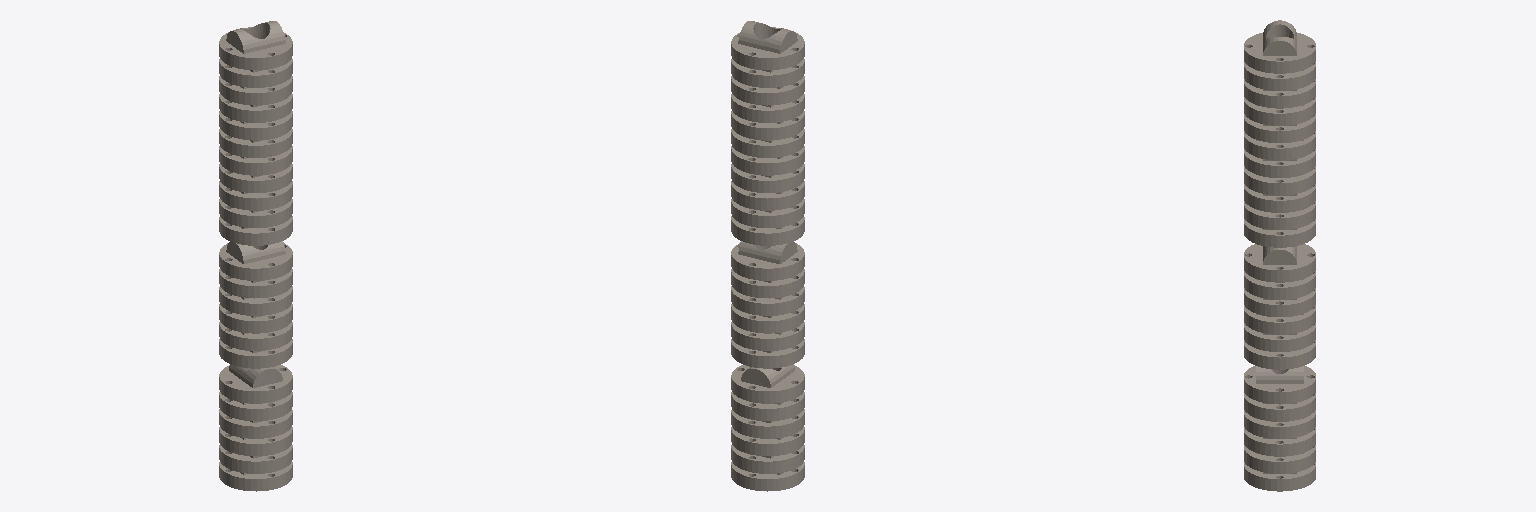
--- Facts derived from the render (not from the file) ---
Views: 3 orthographic renders of the robot side by side, from view 1: azimuth 30°, elevation 25°; view 2: azimuth 150°, elevation 25°; view 3: azimuth 270°, elevation 25°.
Robot: cylinder_joint_25asm_14 — 26 links, 25 joints (24 continuous, 1 fixed); root link link0; default pose: all joints at 0.
Visible links, largest first — view 1: link12, link5, link24, link1, link3, link14, link23, link10, link8, link21, link16, link19 (+12 smaller); view 2: link12, link5, link24, link1, link3, link14, link23, link10, link8, link21, link16, link19 (+12 smaller); view 3: link12, link5, link24, link4, link9, link0, link7, link19, link16, link18, link22, link2 (+12 smaller).
Link boxes in pixels (x1=…): link12: x1=219, y1=241, x2=292, y2=280; link5: x1=219, y1=364, x2=292, y2=403; link24: x1=219, y1=21, x2=292, y2=69; link1: x1=219, y1=445, x2=292, y2=473; link3: x1=219, y1=409, x2=292, y2=438; link14: x1=219, y1=216, x2=292, y2=245; link23: x1=219, y1=59, x2=292, y2=87; link10: x1=219, y1=286, x2=292, y2=315; link8: x1=219, y1=322, x2=292, y2=350; link21: x1=219, y1=94, x2=292, y2=122; link16: x1=219, y1=181, x2=292, y2=210; link19: x1=219, y1=129, x2=292, y2=157; link12: x1=731, y1=241, x2=804, y2=280; link5: x1=731, y1=364, x2=804, y2=403; link24: x1=731, y1=22, x2=804, y2=69; link1: x1=731, y1=445, x2=804, y2=473; link3: x1=731, y1=409, x2=804, y2=438; link14: x1=731, y1=216, x2=804, y2=245; link23: x1=731, y1=59, x2=804, y2=87; link10: x1=731, y1=286, x2=804, y2=315; link8: x1=731, y1=322, x2=804, y2=350; link21: x1=731, y1=94, x2=804, y2=122; link16: x1=731, y1=181, x2=804, y2=210; link19: x1=731, y1=129, x2=804, y2=157; link12: x1=1244, y1=244, x2=1315, y2=282; link5: x1=1244, y1=366, x2=1315, y2=404; link24: x1=1244, y1=20, x2=1315, y2=73; link4: x1=1244, y1=373, x2=1315, y2=421; link9: x1=1244, y1=305, x2=1315, y2=334; link0: x1=1244, y1=462, x2=1315, y2=491; link7: x1=1244, y1=340, x2=1315, y2=369; link19: x1=1244, y1=131, x2=1315, y2=160; link16: x1=1244, y1=184, x2=1315, y2=212; link18: x1=1244, y1=149, x2=1315, y2=177; link22: x1=1244, y1=79, x2=1315, y2=108; link2: x1=1244, y1=427, x2=1315, y2=456.
Size in the robot's own frame: 0.0038 by 0.0038 by 0.0256 metres.
Meshes: 26 distinct files referenced, 24 mesh visuals loaded (24 binary STL); not drawn: 2 (reference not matched to a file when rendering).

URDF robot description (cylinder_joint_25asm_14):
<?xml version="1.0" encoding="utf-8"?>
<!-- This URDF was automatically created by SolidWorks to URDF Exporter! Originally created by Stephen Brawner ([email redacted]) 
     Commit Version: 1.5.1-0-g916b5db  Build Version: 1.5.7152.31018
     For more information, please see http://wiki.ros.org/sw_urdf_exporter -->
<robot
  name="cylinder_joint_25asm_14">
  <link
    name="link0">
    <inertial>
      <origin
        xyz="-2.21907652596534E-08 -1.16344392510808E-08 0.000538247791607803"
        rpy="0 0 0" />
      <mass
        value="7.14380964147276E-06" />
      <inertia
        ixx="7.09547840102883E-12"
        ixy="4.28536440220919E-17"
        ixz="7.27330777188598E-17"
        iyy="8.71236658742558E-12"
        iyz="1.14893231592751E-16"
        izz="1.39367891333543E-11" />
    </inertial>
    <visual>
      <origin
        xyz="0 0 0"
        rpy="0 0 0" />
      <geometry>
        <mesh
          filename="package://cylinder_joint_25asm_14/meshes/link0.STL" />
      </geometry>
      <material
        name="">
        <color
          rgba="0.647058823529412 0.619607843137255 0.588235294117647 1" />
      </material>
    </visual>
    <collision>
      <origin
        xyz="0 0 0"
        rpy="0 0 0" />
      <geometry>
        <mesh
          filename="package://cylinder_joint_25asm_14/meshes/link0.STL" />
      </geometry>
    </collision>
  </link>
  <link
    name="link1">
    <inertial>
      <origin
        xyz="2.2190765259746E-08 0.000838247791607803 -1.16344392510329E-08"
        rpy="0 0 0" />
      <mass
        value="7.14380964147277E-06" />
      <inertia
        ixx="7.09547840102883E-12"
        ixy="-7.27330777190032E-17"
        ixz="-4.28536440221508E-17"
        iyy="1.39367891333544E-11"
        iyz="1.14893231591823E-16"
        izz="8.71236658742558E-12" />
    </inertial>
    <visual>
      <origin
        xyz="0 0 0"
        rpy="0 0 0" />
      <geometry>
        <mesh
          filename="package://cylinder_joint_25asm_14/meshes/link1.STL" />
      </geometry>
      <material
        name="">
        <color
          rgba="0.647058823529412 0.619607843137255 0.588235294117647 1" />
      </material>
    </visual>
    <collision>
      <origin
        xyz="0 0 0"
        rpy="0 0 0" />
      <geometry>
        <mesh
          filename="package://cylinder_joint_25asm_14/meshes/link1.STL" />
      </geometry>
    </collision>
  </link>
  <joint
    name="joint1"
    type="continuous">
    <origin
      xyz="0 0 0.0007"
      rpy="1.5708 0 1.5708" />
    <parent
      link="link0" />
    <child
      link="link1" />
    <axis
      xyz="0 0 1" />
    <limit
      lower="-0.157"
      upper="0.157"
      effort="100"
      velocity="1" />
  </joint>
  <link
    name="link2">
    <inertial>
      <origin
        xyz="-2.21907652596385E-08 0.000838247791607803 1.16344392512804E-08"
        rpy="0 0 0" />
      <mass
        value="7.14380964147276E-06" />
      <inertia
        ixx="7.09547840102883E-12"
        ixy="7.2733077718794E-17"
        ixz="-4.28536440221158E-17"
        iyy="1.39367891333544E-11"
        iyz="-1.14893231591564E-16"
        izz="8.71236658742558E-12" />
    </inertial>
    <visual>
      <origin
        xyz="0 0 0"
        rpy="0 0 0" />
      <geometry>
        <mesh
          filename="package://cylinder_joint_25asm_14/meshes/link2.STL" />
      </geometry>
      <material
        name="">
        <color
          rgba="0.647058823529412 0.619607843137255 0.588235294117647 1" />
      </material>
    </visual>
    <collision>
      <origin
        xyz="0 0 0"
        rpy="0 0 0" />
      <geometry>
        <mesh
          filename="package://cylinder_joint_25asm_14/meshes/link2.STL" />
      </geometry>
    </collision>
  </link>
  <joint
    name="joint2"
    type="continuous">
    <origin
      xyz="0 0.001 0"
      rpy="0 1.5708 0" />
    <parent
      link="link1" />
    <child
      link="link2" />
    <axis
      xyz="0 0 1" />
    <limit
      lower="-0.157"
      upper="0.157"
      effort="100"
      velocity="1" />
  </joint>
  <link
    name="link3">
    <inertial>
      <origin
        xyz="-2.21907652596817E-08 0.000838247791607803 1.16344392514488E-08"
        rpy="0 0 0" />
      <mass
        value="7.14380964147276E-06" />
      <inertia
        ixx="7.09547840102883E-12"
        ixy="7.2733077718483E-17"
        ixz="-4.28536440225979E-17"
        iyy="1.39367891333543E-11"
        iyz="-1.14893231591731E-16"
        izz="8.71236658742558E-12" />
    </inertial>
    <visual>
      <origin
        xyz="0 0 0"
        rpy="0 0 0" />
      <geometry>
        <mesh
          filename="package://cylinder_joint_25asm_14/meshes/link3.STL" />
      </geometry>
      <material
        name="">
        <color
          rgba="0.647058823529412 0.619607843137255 0.588235294117647 1" />
      </material>
    </visual>
    <collision>
      <origin
        xyz="0 0 0"
        rpy="0 0 0" />
      <geometry>
        <mesh
          filename="package://cylinder_joint_25asm_14/meshes/link3.STL" />
      </geometry>
    </collision>
  </link>
  <joint
    name="joint3"
    type="continuous">
    <origin
      xyz="0 0.001 0"
      rpy="0 -1.5708 0" />
    <parent
      link="link2" />
    <child
      link="link3" />
    <axis
      xyz="0 0 1" />
    <limit
      lower="-0.157"
      upper="0.157"
      effort="100"
      velocity="1" />
  </joint>
  <link
    name="link4">
    <inertial>
      <origin
        xyz="-2.21907652595847E-08 0.000838247791607803 1.16344392505517E-08"
        rpy="0 0 0" />
      <mass
        value="7.14380964147275E-06" />
      <inertia
        ixx="7.09547840102882E-12"
        ixy="7.27330777185742E-17"
        ixz="-4.28536440226602E-17"
        iyy="1.39367891333543E-11"
        iyz="-1.14893231591943E-16"
        izz="8.71236658742557E-12" />
    </inertial>
    <visual>
      <origin
        xyz="0 0 0"
        rpy="0 0 0" />
      <geometry>
        <mesh
          filename="package://cylinder_joint_25asm_14/meshes/link4.STL" />
      </geometry>
      <material
        name="">
        <color
          rgba="0.647058823529412 0.619607843137255 0.588235294117647 1" />
      </material>
    </visual>
    <collision>
      <origin
        xyz="0 0 0"
        rpy="0 0 0" />
      <geometry>
        <mesh
          filename="package://cylinder_joint_25asm_14/meshes/link4.STL" />
      </geometry>
    </collision>
  </link>
  <joint
    name="joint4"
    type="continuous">
    <origin
      xyz="0 0.001 0"
      rpy="0 1.5708 0" />
    <parent
      link="link3" />
    <child
      link="link4" />
    <axis
      xyz="0 0 1" />
    <limit
      lower="-0.157"
      upper="0.157"
      effort="100"
      velocity="1" />
  </joint>
  <link
    name="link5">
    <inertial>
      <origin
        xyz="-2.21907652597724E-08 0.000838247791607805 1.16344392510284E-08"
        rpy="0 0 0" />
      <mass
        value="7.14380964147275E-06" />
      <inertia
        ixx="7.09547840102882E-12"
        ixy="7.27330777185328E-17"
        ixz="-4.28536440225276E-17"
        iyy="1.39367891333543E-11"
        iyz="-1.14893231591784E-16"
        izz="8.71236658742557E-12" />
    </inertial>
    <visual>
      <origin
        xyz="0 0 0"
        rpy="0 0 0" />
      <geometry>
        <mesh
          filename="package://cylinder_joint_25asm_14/meshes/link5.STL" />
      </geometry>
      <material
        name="">
        <color
          rgba="0.647058823529412 0.619607843137255 0.588235294117647 1" />
      </material>
    </visual>
    <collision>
      <origin
        xyz="0 0 0"
        rpy="0 0 0" />
      <geometry>
        <mesh
          filename="package://cylinder_joint_25asm_14/meshes/link5.STL" />
      </geometry>
    </collision>
  </link>
  <joint
    name="joint5"
    type="continuous">
    <origin
      xyz="0 0.001 0"
      rpy="0 -1.5708 0" />
    <parent
      link="link4" />
    <child
      link="link5" />
    <axis
      xyz="0 0 1" />
    <limit
      lower="-0.157"
      upper="0.157"
      effort="100"
      velocity="1" />
  </joint>
  <link
    name="link6">
    <inertial>
      <origin
        xyz="-2.21907652596204E-08 0.000838247791607804 1.16344392499492E-08"
        rpy="0 0 0" />
      <mass
        value="7.14380964147276E-06" />
      <inertia
        ixx="7.09547840102882E-12"
        ixy="7.27330777188102E-17"
        ixz="-4.28536440227107E-17"
        iyy="1.39367891333543E-11"
        iyz="-1.1489323159158E-16"
        izz="8.71236658742557E-12" />
    </inertial>
    <visual>
      <origin
        xyz="0 0 0"
        rpy="0 0 0" />
      <geometry>
        <mesh
          filename="package://cylinder_joint_25asm_14/meshes/link6.STL" />
      </geometry>
      <material
        name="">
        <color
          rgba="0.647058823529412 0.619607843137255 0.588235294117647 1" />
      </material>
    </visual>
    <collision>
      <origin
        xyz="0 0 0"
        rpy="0 0 0" />
      <geometry>
        <mesh
          filename="package://cylinder_joint_25asm_14/meshes/link6.STL" />
      </geometry>
    </collision>
  </link>
  <joint
    name="joint6"
    type="continuous">
    <origin
      xyz="0 0.001 0"
      rpy="0 1.5708 0" />
    <parent
      link="link5" />
    <child
      link="link6" />
    <axis
      xyz="0 0 1" />
    <limit
      lower="-0.157"
      upper="0.157"
      effort="100"
      velocity="1" />
  </joint>
  <link
    name="link7">
    <inertial>
      <origin
        xyz="-2.21907652597829E-08 0.000838247791607803 1.16344392505934E-08"
        rpy="0 0 0" />
      <mass
        value="7.14380964147275E-06" />
      <inertia
        ixx="7.09547840102882E-12"
        ixy="7.27330777190162E-17"
        ixz="-4.28536440224905E-17"
        iyy="1.39367891333543E-11"
        iyz="-1.14893231592449E-16"
        izz="8.71236658742557E-12" />
    </inertial>
    <visual>
      <origin
        xyz="0 0 0"
        rpy="0 0 0" />
      <geometry>
        <mesh
          filename="package://cylinder_joint_25asm_14/meshes/link7.STL" />
      </geometry>
      <material
        name="">
        <color
          rgba="0.647058823529412 0.619607843137255 0.588235294117647 1" />
      </material>
    </visual>
    <collision>
      <origin
        xyz="0 0 0"
        rpy="0 0 0" />
      <geometry>
        <mesh
          filename="package://cylinder_joint_25asm_14/meshes/link7.STL" />
      </geometry>
    </collision>
  </link>
  <joint
    name="joint7"
    type="continuous">
    <origin
      xyz="0 0.001 0"
      rpy="0 -1.5708 0" />
    <parent
      link="link6" />
    <child
      link="link7" />
    <axis
      xyz="0 0 1" />
    <limit
      lower="-0.157"
      upper="0.157"
      effort="100"
      velocity="1" />
  </joint>
  <link
    name="link8">
    <inertial>
      <origin
        xyz="-2.21907652596306E-08 0.000838247791607801 1.16344392498287E-08"
        rpy="0 0 0" />
      <mass
        value="7.14380964147276E-06" />
      <inertia
        ixx="7.09547840102882E-12"
        ixy="7.27330777186379E-17"
        ixz="-4.2853644021828E-17"
        iyy="1.39367891333543E-11"
        iyz="-1.14893231592695E-16"
        izz="8.71236658742558E-12" />
    </inertial>
    <visual>
      <origin
        xyz="0 0 0"
        rpy="0 0 0" />
      <geometry>
        <mesh
          filename="package://cylinder_joint_25asm_14/meshes/link8.STL" />
      </geometry>
      <material
        name="">
        <color
          rgba="0.647058823529412 0.619607843137255 0.588235294117647 1" />
      </material>
    </visual>
    <collision>
      <origin
        xyz="0 0 0"
        rpy="0 0 0" />
      <geometry>
        <mesh
          filename="package://cylinder_joint_25asm_14/meshes/link8.STL" />
      </geometry>
    </collision>
  </link>
  <joint
    name="joint8"
    type="continuous">
    <origin
      xyz="0 0.001 0"
      rpy="0 1.5708 0" />
    <parent
      link="link7" />
    <child
      link="link8" />
    <axis
      xyz="0 0 1" />
    <limit
      lower="-0.157"
      upper="0.157"
      effort="100"
      velocity="1" />
  </joint>
  <link
    name="link9">
    <inertial>
      <origin
        xyz="-2.21907652596635E-08 0.000838247791607802 1.1634439250027E-08"
        rpy="0 0 0" />
      <mass
        value="7.14380964147276E-06" />
      <inertia
        ixx="7.09547840102882E-12"
        ixy="7.27330777186584E-17"
        ixz="-4.28536440227988E-17"
        iyy="1.39367891333543E-11"
        iyz="-1.148932315921E-16"
        izz="8.71236658742557E-12" />
    </inertial>
    <visual>
      <origin
        xyz="0 0 0"
        rpy="0 0 0" />
      <geometry>
        <mesh
          filename="package://cylinder_joint_25asm_14/meshes/link9.STL" />
      </geometry>
      <material
        name="">
        <color
          rgba="0.647058823529412 0.619607843137255 0.588235294117647 1" />
      </material>
    </visual>
    <collision>
      <origin
        xyz="0 0 0"
        rpy="0 0 0" />
      <geometry>
        <mesh
          filename="package://cylinder_joint_25asm_14/meshes/link9.STL" />
      </geometry>
    </collision>
  </link>
  <joint
    name="joint9"
    type="continuous">
    <origin
      xyz="0 0.001 0"
      rpy="0 -1.5708 0" />
    <parent
      link="link8" />
    <child
      link="link9" />
    <axis
      xyz="0 0 1" />
    <limit
      lower="-0.157"
      upper="0.157"
      effort="100"
      velocity="1" />
  </joint>
  <link
    name="link10">
    <inertial>
      <origin
        xyz="2.21907652594877E-08 0.000838247791607802 -1.16344392530854E-08"
        rpy="0 0 0" />
      <mass
        value="7.14380964147275E-06" />
      <inertia
        ixx="7.09547840102882E-12"
        ixy="-7.27330777184488E-17"
        ixz="-4.28536440220448E-17"
        iyy="1.39367891333543E-11"
        iyz="1.14893231592418E-16"
        izz="8.71236658742557E-12" />
    </inertial>
    <visual>
      <origin
        xyz="0 0 0"
        rpy="0 0 0" />
      <geometry>
        <mesh
          filename="package://cylinder_joint_25asm_14/meshes/link10.STL" />
      </geometry>
      <material
        name="">
        <color
          rgba="0.647058823529412 0.619607843137255 0.588235294117647 1" />
      </material>
    </visual>
    <collision>
      <origin
        xyz="0 0 0"
        rpy="0 0 0" />
      <geometry>
        <mesh
          filename="package://cylinder_joint_25asm_14/meshes/link10.STL" />
      </geometry>
    </collision>
  </link>
  <joint
    name="joint10"
    type="continuous">
    <origin
      xyz="0 0.001 0"
      rpy="0 1.5708 0" />
    <parent
      link="link9" />
    <child
      link="link10" />
    <axis
      xyz="0 0 1" />
    <limit
      lower="-0.157"
      upper="0.157"
      effort="100"
      velocity="1" />
  </joint>
  <link
    name="link11">
    <inertial>
      <origin
        xyz="2.21907652597481E-08 0.000838247791607804 -1.16344392519066E-08"
        rpy="0 0 0" />
      <mass
        value="7.14380964147276E-06" />
      <inertia
        ixx="7.09547840102882E-12"
        ixy="-7.27330777191194E-17"
        ixz="-4.28536440227158E-17"
        iyy="1.39367891333543E-11"
        iyz="1.14893231592021E-16"
        izz="8.71236658742557E-12" />
    </inertial>
    <visual>
      <origin
        xyz="0 0 0"
        rpy="0 0 0" />
      <geometry>
        <mesh
          filename="package://cylinder_joint_25asm_14/meshes/link11.STL" />
      </geometry>
      <material
        name="">
        <color
          rgba="0.647058823529412 0.619607843137255 0.588235294117647 1" />
      </material>
    </visual>
    <collision>
      <origin
        xyz="0 0 0"
        rpy="0 0 0" />
      <geometry>
        <mesh
          filename="package://cylinder_joint_25asm_14/meshes/link11.STL" />
      </geometry>
    </collision>
  </link>
  <joint
    name="joint11"
    type="continuous">
    <origin
      xyz="0 0.001 0"
      rpy="0 -1.5708 0" />
    <parent
      link="link10" />
    <child
      link="link11" />
    <axis
      xyz="0 0 1" />
    <limit
      lower="-0.157"
      upper="0.157"
      effort="100"
      velocity="1" />
  </joint>
  <link
    name="link12">
    <inertial>
      <origin
        xyz="-2.21907652592712E-08 0.000838247791607802 1.16344392489595E-08"
        rpy="0 0 0" />
      <mass
        value="7.14380964147276E-06" />
      <inertia
        ixx="7.09547840102882E-12"
        ixy="7.27330777187232E-17"
        ixz="-4.28536440224688E-17"
        iyy="1.39367891333543E-11"
        iyz="-1.14893231591502E-16"
        izz="8.71236658742557E-12" />
    </inertial>
    <visual>
      <origin
        xyz="0 0 0"
        rpy="0 0 0" />
      <geometry>
        <mesh
          filename="package://cylinder_joint_25asm_14/meshes/link12.STL" />
      </geometry>
      <material
        name="">
        <color
          rgba="0.647058823529412 0.619607843137255 0.588235294117647 1" />
      </material>
    </visual>
    <collision>
      <origin
        xyz="0 0 0"
        rpy="0 0 0" />
      <geometry>
        <mesh
          filename="package://cylinder_joint_25asm_14/meshes/link12.STL" />
      </geometry>
    </collision>
  </link>
  <joint
    name="joint12"
    type="continuous">
    <origin
      xyz="0 0.001 0"
      rpy="0 1.5708 0" />
    <parent
      link="link11" />
    <child
      link="link12" />
    <axis
      xyz="0 0 1" />
    <limit
      lower="-0.157"
      upper="0.157"
      effort="100"
      velocity="1" />
  </joint>
  <link
    name="link13">
    <inertial>
      <origin
        xyz="-2.21907652597256E-08 0.000838247791607804 1.16344392507759E-08"
        rpy="0 0 0" />
      <mass
        value="7.14380964147275E-06" />
      <inertia
        ixx="7.09547840102882E-12"
        ixy="7.27330777187502E-17"
        ixz="-4.28536440218357E-17"
        iyy="1.39367891333543E-11"
        iyz="-1.14893231593429E-16"
        izz="8.71236658742557E-12" />
    </inertial>
    <visual>
      <origin
        xyz="0 0 0"
        rpy="0 0 0" />
      <geometry>
        <mesh
          filename="package://cylinder_joint_25asm_14/meshes/link13.STL" />
      </geometry>
      <material
        name="">
        <color
          rgba="0.647058823529412 0.619607843137255 0.588235294117647 1" />
      </material>
    </visual>
    <collision>
      <origin
        xyz="0 0 0"
        rpy="0 0 0" />
      <geometry>
        <mesh
          filename="package://cylinder_joint_25asm_14/meshes/link13.STL" />
      </geometry>
    </collision>
  </link>
  <joint
    name="joint13"
    type="continuous">
    <origin
      xyz="0 0.001 0"
      rpy="0 -1.5708 0" />
    <parent
      link="link12" />
    <child
      link="link13" />
    <axis
      xyz="0 0 1" />
    <limit
      lower="-0.157"
      upper="0.157"
      effort="100"
      velocity="1" />
  </joint>
  <link
    name="link14">
    <inertial>
      <origin
        xyz="2.21907652595504E-08 0.000838247791607802 -1.16344392536534E-08"
        rpy="0 0 0" />
      <mass
        value="7.14380964147276E-06" />
      <inertia
        ixx="7.09547840102882E-12"
        ixy="-7.27330777187182E-17"
        ixz="-4.28536440222973E-17"
        iyy="1.39367891333543E-11"
        iyz="1.14893231592192E-16"
        izz="8.71236658742558E-12" />
    </inertial>
    <visual>
      <origin
        xyz="0 0 0"
        rpy="0 0 0" />
      <geometry>
        <mesh
          filename="package://cylinder_joint_25asm_14/meshes/link14.STL" />
      </geometry>
      <material
        name="">
        <color
          rgba="0.647058823529412 0.619607843137255 0.588235294117647 1" />
      </material>
    </visual>
    <collision>
      <origin
        xyz="0 0 0"
        rpy="0 0 0" />
      <geometry>
        <mesh
          filename="package://cylinder_joint_25asm_14/meshes/link14.STL" />
      </geometry>
    </collision>
  </link>
  <joint
    name="joint14"
    type="continuous">
    <origin
      xyz="0 0.001 0"
      rpy="0 1.5708 0" />
    <parent
      link="link13" />
    <child
      link="link14" />
    <axis
      xyz="0 0 1" />
    <limit
      lower="-0.157"
      upper="0.157"
      effort="100"
      velocity="1" />
  </joint>
  <link
    name="link15">
    <inertial>
      <origin
        xyz="2.21907652597479E-08 0.000838247791607804 -1.16344392519019E-08"
        rpy="0 0 0" />
      <mass
        value="7.14380964147278E-06" />
      <inertia
        ixx="7.09547840102884E-12"
        ixy="-7.2733077718594E-17"
        ixz="-4.28536440226031E-17"
        iyy="1.39367891333544E-11"
        iyz="1.14893231593017E-16"
        izz="8.7123665874256E-12" />
    </inertial>
    <visual>
      <origin
        xyz="0 0 0"
        rpy="0 0 0" />
      <geometry>
        <mesh
          filename="package://cylinder_joint_25asm_14/meshes/link15.STL" />
      </geometry>
      <material
        name="">
        <color
          rgba="0.647058823529412 0.619607843137255 0.588235294117647 1" />
      </material>
    </visual>
    <collision>
      <origin
        xyz="0 0 0"
        rpy="0 0 0" />
      <geometry>
        <mesh
          filename="package://cylinder_joint_25asm_14/meshes/link15.STL" />
      </geometry>
    </collision>
  </link>
  <joint
    name="joint15"
    type="continuous">
    <origin
      xyz="0 0.001 0"
      rpy="0 -1.5708 0" />
    <parent
      link="link14" />
    <child
      link="link15" />
    <axis
      xyz="0 0 1" />
    <limit
      lower="-0.157"
      upper="0.157"
      effort="100"
      velocity="1" />
  </joint>
  <link
    name="link16">
    <inertial>
      <origin
        xyz="2.21907652599098E-08 0.000838247791607804 -1.16344392530593E-08"
        rpy="0 0 0" />
      <mass
        value="7.14380964147276E-06" />
      <inertia
        ixx="7.09547840102883E-12"
        ixy="-7.27330777199987E-17"
        ixz="-4.28536440231096E-17"
        iyy="1.39367891333543E-11"
        iyz="1.14893231591443E-16"
        izz="8.71236658742558E-12" />
    </inertial>
    <visual>
      <origin
        xyz="0 0 0"
        rpy="0 0 0" />
      <geometry>
        <mesh
          filename="package://cylinder_joint_25asm_14/meshes/link16.STL" />
      </geometry>
      <material
        name="">
        <color
          rgba="0.647058823529412 0.619607843137255 0.588235294117647 1" />
      </material>
    </visual>
    <collision>
      <origin
        xyz="0 0 0"
        rpy="0 0 0" />
      <geometry>
        <mesh
          filename="package://cylinder_joint_25asm_14/meshes/link16.STL" />
      </geometry>
    </collision>
  </link>
  <joint
    name="joint16"
    type="continuous">
    <origin
      xyz="0 0.001 0"
      rpy="0 1.5708 0" />
    <parent
      link="link15" />
    <child
      link="link16" />
    <axis
      xyz="0 0 1" />
    <limit
      lower="-0.157"
      upper="0.157"
      effort="100"
      velocity="1" />
  </joint>
  <link
    name="link17">
    <inertial>
      <origin
        xyz="2.21907652597994E-08 0.000838247791607804 -1.16344392511564E-08"
        rpy="0 0 0" />
      <mass
        value="7.14380964147276E-06" />
      <inertia
        ixx="7.09547840102883E-12"
        ixy="-7.27330777198471E-17"
        ixz="-4.28536440229726E-17"
        iyy="1.39367891333543E-11"
        iyz="1.14893231590642E-16"
        izz="8.71236658742558E-12" />
    </inertial>
    <visual>
      <origin
        xyz="0 0 0"
        rpy="0 0 0" />
      <geometry>
        <mesh
          filename="package://cylinder_joint_25asm_14/meshes/link17.STL" />
      </geometry>
      <material
        name="">
        <color
          rgba="0.647058823529412 0.619607843137255 0.588235294117647 1" />
      </material>
    </visual>
    <collision>
      <origin
        xyz="0 0 0"
        rpy="0 0 0" />
      <geometry>
        <mesh
          filename="package://cylinder_joint_25asm_14/meshes/link17.STL" />
      </geometry>
    </collision>
  </link>
  <joint
    name="joint17"
    type="continuous">
    <origin
      xyz="0 0.001 0"
      rpy="0 -1.5708 0" />
    <parent
      link="link16" />
    <child
      link="link17" />
    <axis
      xyz="0 0 1" />
    <limit
      lower="-0.157"
      upper="0.157"
      effort="100"
      velocity="1" />
  </joint>
  <link
    name="link18">
    <inertial>
      <origin
        xyz="-2.21907652596259E-08 0.000838247791607804 1.16344392482816E-08"
        rpy="0 0 0" />
      <mass
        value="7.14380964147276E-06" />
      <inertia
        ixx="7.09547840102882E-12"
        ixy="7.27330777183518E-17"
        ixz="-4.28536440234473E-17"
        iyy="1.39367891333543E-11"
        iyz="-1.14893231590171E-16"
        izz="8.71236658742557E-12" />
    </inertial>
    <visual>
      <origin
        xyz="0 0 0"
        rpy="0 0 0" />
      <geometry>
        <mesh
          filename="package://cylinder_joint_25asm_14/meshes/link18.STL" />
      </geometry>
      <material
        name="">
        <color
          rgba="0.647058823529412 0.619607843137255 0.588235294117647 1" />
      </material>
    </visual>
    <collision>
      <origin
        xyz="0 0 0"
        rpy="0 0 0" />
      <geometry>
        <mesh
          filename="package://cylinder_joint_25asm_14/meshes/link18.STL" />
      </geometry>
    </collision>
  </link>
  <joint
    name="joint18"
    type="continuous">
    <origin
      xyz="0 0.001 0"
      rpy="0 1.5708 0" />
    <parent
      link="link17" />
    <child
      link="link18" />
    <axis
      xyz="0 0 1" />
    <limit
      lower="-0.157"
      upper="0.157"
      effort="100"
      velocity="1" />
  </joint>
  <link
    name="link19">
    <inertial>
      <origin
        xyz="-2.21907652598278E-08 0.000838247791607804 1.16344392510689E-08"
        rpy="0 0 0" />
      <mass
        value="7.14380964147276E-06" />
      <inertia
        ixx="7.09547840102882E-12"
        ixy="7.2733077719228E-17"
        ixz="-4.28536440226449E-17"
        iyy="1.39367891333543E-11"
        iyz="-1.14893231592272E-16"
        izz="8.71236658742557E-12" />
    </inertial>
    <visual>
      <origin
        xyz="0 0 0"
        rpy="0 0 0" />
      <geometry>
        <mesh
          filename="package://cylinder_joint_25asm_14/meshes/link19.STL" />
      </geometry>
      <material
        name="">
        <color
          rgba="0.647058823529412 0.619607843137255 0.588235294117647 1" />
      </material>
    </visual>
    <collision>
      <origin
        xyz="0 0 0"
        rpy="0 0 0" />
      <geometry>
        <mesh
          filename="package://cylinder_joint_25asm_14/meshes/link19.STL" />
      </geometry>
    </collision>
  </link>
  <joint
    name="joint19"
    type="continuous">
    <origin
      xyz="0 0.001 0"
      rpy="0 -1.5708 0" />
    <parent
      link="link18" />
    <child
      link="link19" />
    <axis
      xyz="0 0 1" />
    <limit
      lower="-0.157"
      upper="0.157"
      effort="100"
      velocity="1" />
  </joint>
  <link
    name="link20">
    <inertial>
      <origin
        xyz="2.2190765259793E-08 0.000838247791607804 -1.16344392541625E-08"
        rpy="0 0 0" />
      <mass
        value="7.14380964147276E-06" />
      <inertia
        ixx="7.09547840102882E-12"
        ixy="-7.27330777196271E-17"
        ixz="-4.28536440210982E-17"
        iyy="1.39367891333543E-11"
        iyz="1.14893231593385E-16"
        izz="8.71236658742558E-12" />
    </inertial>
    <visual>
      <origin
        xyz="0 0 0"
        rpy="0 0 0" />
      <geometry>
        <mesh
          filename="package://cylinder_joint_25asm_14/meshes/link20.STL" />
      </geometry>
      <material
        name="">
        <color
          rgba="0.647058823529412 0.619607843137255 0.588235294117647 1" />
      </material>
    </visual>
    <collision>
      <origin
        xyz="0 0 0"
        rpy="0 0 0" />
      <geometry>
        <mesh
          filename="package://cylinder_joint_25asm_14/meshes/link20.STL" />
      </geometry>
    </collision>
  </link>
  <joint
    name="joint20"
    type="continuous">
    <origin
      xyz="0 0.001 0"
      rpy="0 1.5708 0" />
    <parent
      link="link19" />
    <child
      link="link20" />
    <axis
      xyz="0 0 1" />
    <limit
      lower="-0.157"
      upper="0.157"
      effort="100"
      velocity="1" />
  </joint>
  <link
    name="link21">
    <inertial>
      <origin
        xyz="2.21907652594747E-08 0.000838247791607804 -1.16344392513518E-08"
        rpy="0 0 0" />
      <mass
        value="7.14380964147276E-06" />
      <inertia
        ixx="7.09547840102882E-12"
        ixy="-7.273307771773E-17"
        ixz="-4.28536440225769E-17"
        iyy="1.39367891333543E-11"
        iyz="1.14893231592291E-16"
        izz="8.71236658742558E-12" />
    </inertial>
    <visual>
      <origin
        xyz="0 0 0"
        rpy="0 0 0" />
      <geometry>
        <mesh
          filename="package://cylinder_joint_25asm_14/meshes/link21.STL" />
      </geometry>
      <material
        name="">
        <color
          rgba="0.647058823529412 0.619607843137255 0.588235294117647 1" />
      </material>
    </visual>
    <collision>
      <origin
        xyz="0 0 0"
        rpy="0 0 0" />
      <geometry>
        <mesh
          filename="package://cylinder_joint_25asm_14/meshes/link21.STL" />
      </geometry>
    </collision>
  </link>
  <joint
    name="joint21"
    type="continuous">
    <origin
      xyz="0 0.001 0"
      rpy="0 -1.5708 0" />
    <parent
      link="link20" />
    <child
      link="link21" />
    <axis
      xyz="0 0 1" />
    <limit
      lower="-0.157"
      upper="0.157"
      effort="100"
      velocity="1" />
  </joint>
  <link
    name="link22">
    <inertial>
      <origin
        xyz="-2.21907652600262E-08 0.0008382477916078 1.16344392488848E-08"
        rpy="0 0 0" />
      <mass
        value="7.14380964147277E-06" />
      <inertia
        ixx="7.09547840102883E-12"
        ixy="7.27330777203637E-17"
        ixz="-4.28536440218424E-17"
        iyy="1.39367891333543E-11"
        iyz="-1.14893231592544E-16"
        izz="8.71236658742558E-12" />
    </inertial>
    <visual>
      <origin
        xyz="0 0 0"
        rpy="0 0 0" />
      <geometry>
        <mesh
          filename="package://cylinder_joint_25asm_14/meshes/link22.STL" />
      </geometry>
      <material
        name="">
        <color
          rgba="0.647058823529412 0.619607843137255 0.588235294117647 1" />
      </material>
    </visual>
    <collision>
      <origin
        xyz="0 0 0"
        rpy="0 0 0" />
      <geometry>
        <mesh
          filename="package://cylinder_joint_25asm_14/meshes/link22.STL" />
      </geometry>
    </collision>
  </link>
  <joint
    name="joint22"
    type="continuous">
    <origin
      xyz="0 0.001 0"
      rpy="0 1.5708 0" />
    <parent
      link="link21" />
    <child
      link="link22" />
    <axis
      xyz="0 0 1" />
    <limit
      lower="-0.157"
      upper="0.157"
      effort="100"
      velocity="1" />
  </joint>
  <link
    name="link23">
    <inertial>
      <origin
        xyz="-2.21907652596071E-08 0.000838247791607804 1.16344392509177E-08"
        rpy="0 0 0" />
      <mass
        value="7.14380964147276E-06" />
      <inertia
        ixx="7.09547840102882E-12"
        ixy="7.27330777196128E-17"
        ixz="-4.28536440222124E-17"
        iyy="1.39367891333543E-11"
        iyz="-1.14893231591794E-16"
        izz="8.71236658742558E-12" />
    </inertial>
    <visual>
      <origin
        xyz="0 0 0"
        rpy="0 0 0" />
      <geometry>
        <mesh
          filename="package://cylinder_joint_25asm_14/meshes/link23.STL" />
      </geometry>
      <material
        name="">
        <color
          rgba="0.647058823529412 0.619607843137255 0.588235294117647 1" />
      </material>
    </visual>
    <collision>
      <origin
        xyz="0 0 0"
        rpy="0 0 0" />
      <geometry>
        <mesh
          filename="package://cylinder_joint_25asm_14/meshes/link23.STL" />
      </geometry>
    </collision>
  </link>
  <joint
    name="joint23"
    type="continuous">
    <origin
      xyz="0 0.001 0"
      rpy="0 -1.5708 0" />
    <parent
      link="link22" />
    <child
      link="link23" />
    <axis
      xyz="0 0 1" />
    <limit
      lower="-0.157"
      upper="0.157"
      effort="100"
      velocity="1" />
  </joint>
  <link
    name="link24">
    <inertial>
      <origin
        xyz="2.2190765259821E-08 0.000838247791607807 -1.16344392545999E-08"
        rpy="0 0 0" />
      <mass
        value="7.14380964147276E-06" />
      <inertia
        ixx="7.09547840102883E-12"
        ixy="-7.27330777197075E-17"
        ixz="-4.28536440214416E-17"
        iyy="1.39367891333543E-11"
        iyz="1.14893231592688E-16"
        izz="8.71236658742558E-12" />
    </inertial>
    <visual>
      <origin
        xyz="0 0 0"
        rpy="0 0 0" />
      <geometry>
        <mesh
          filename="package://cylinder_joint_25asm_14/meshes/link24.STL" />
      </geometry>
      <material
        name="">
        <color
          rgba="0.647058823529412 0.619607843137255 0.588235294117647 1" />
      </material>
    </visual>
    <collision>
      <origin
        xyz="0 0 0"
        rpy="0 0 0" />
      <geometry>
        <mesh
          filename="package://cylinder_joint_25asm_14/meshes/link24.STL" />
      </geometry>
    </collision>
  </link>
  <joint
    name="joint24"
    type="continuous">
    <origin
      xyz="0 0.001 0"
      rpy="0 1.5708 0" />
    <parent
      link="link23" />
    <child
      link="link24" />
    <axis
      xyz="0 0 1" />
    <limit
      lower="-0.157"
      upper="0.157"
      effort="100"
      velocity="1" />
  </joint>
  <link
    name="link25">
    <inertial>
      <origin
        xyz="-1.1634439251696E-08 -0.000161752208392194 -2.21907652601987E-08"
        rpy="0 0 0" />
      <mass
        value="7.14380964147276E-06" />
      <inertia
        ixx="8.71236658742558E-12"
        ixy="1.14893231592688E-16"
        ixz="4.28536440214416E-17"
        iyy="1.39367891333543E-11"
        iyz="7.27330777197202E-17"
        izz="7.09547840102883E-12" />
    </inertial>
    <visual>
      <origin
        xyz="0 0 0"
        rpy="0 0 0" />
      <geometry>
        <mesh
          filename="package://cylinder_joint_25asm_14/meshes/link25.STL" />
      </geometry>
      <material
        name="">
        <color
          rgba="0.647058823529412 0.619607843137255 0.588235294117647 1" />
      </material>
    </visual>
    <collision>
      <origin
        xyz="0 0 0"
        rpy="0 0 0" />
      <geometry>
        <mesh
          filename="package://cylinder_joint_25asm_14/meshes/link25.STL" />
      </geometry>
    </collision>
  </link>
  <joint
    name="joint25"
    type="fixed">
    <origin
      xyz="0 0.001 0"
      rpy="0 -1.5708 0" />
    <parent
      link="link24" />
    <child
      link="link25" />
    <axis
      xyz="0 0 0" />
    <limit
      lower="-0.157"
      upper="0.157"
      effort="100"
      velocity="1" />
  </joint>
</robot>
